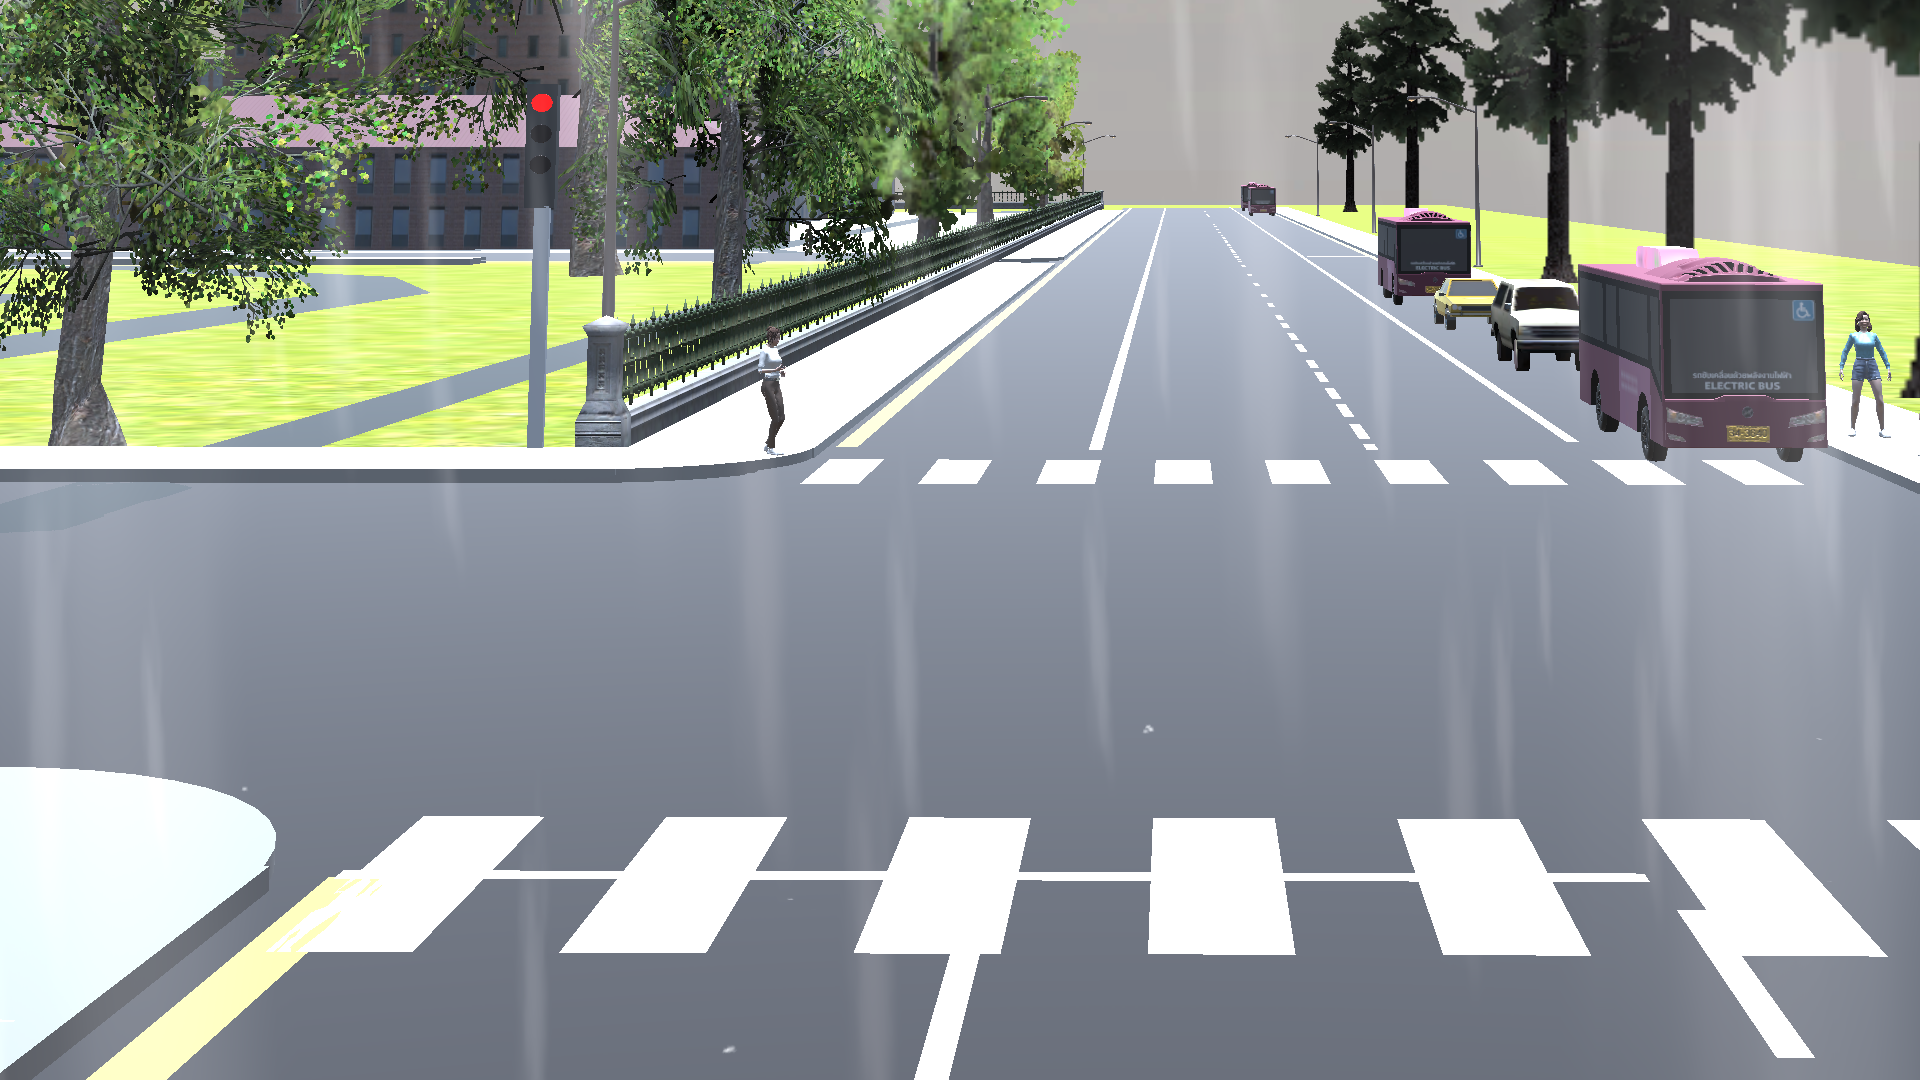pedestrian: (1836, 305, 1916, 441), (744, 322, 797, 460)
